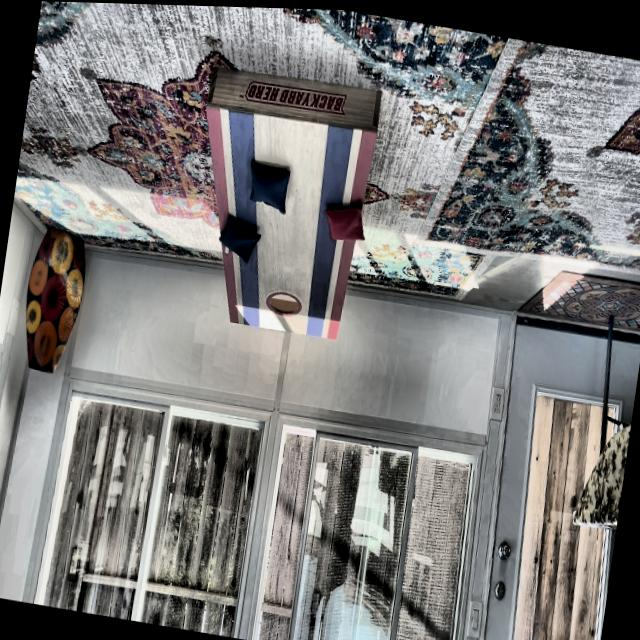blue-bean-bag: (245, 159, 291, 213), (216, 212, 262, 264)
board: (215, 109, 368, 340)
hole: (264, 287, 303, 319)
red-bean-bag: (321, 200, 368, 244)
